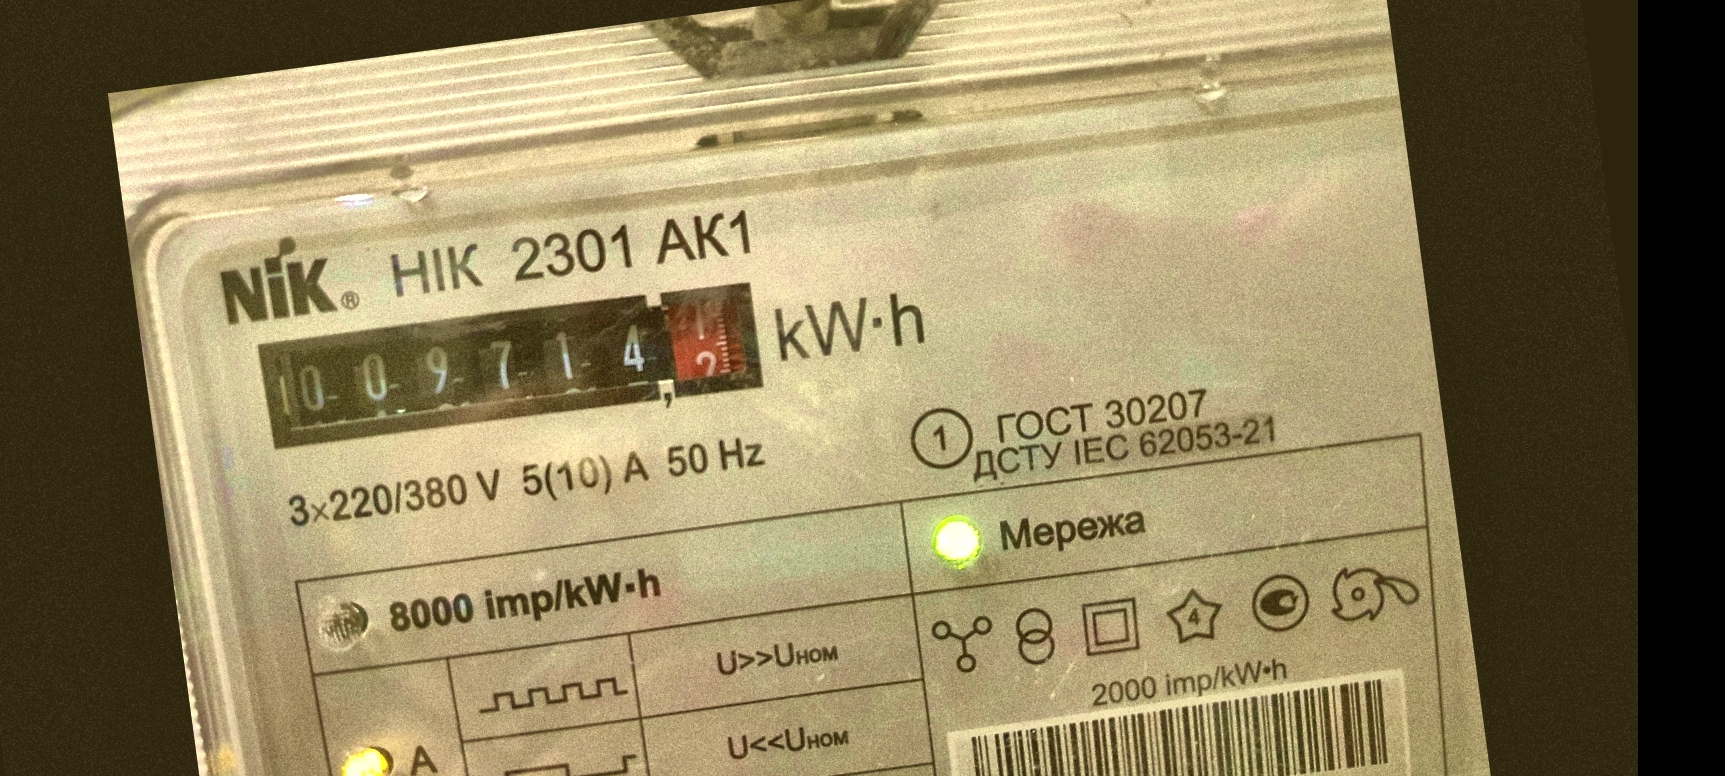0: (293, 359, 329, 416), (358, 347, 391, 404)
1: (550, 325, 579, 383), (688, 298, 708, 342)
2: (692, 345, 719, 378)
4: (614, 319, 649, 378)
7: (486, 336, 519, 392)
9: (419, 341, 454, 397)
screen: (240, 261, 782, 472)
